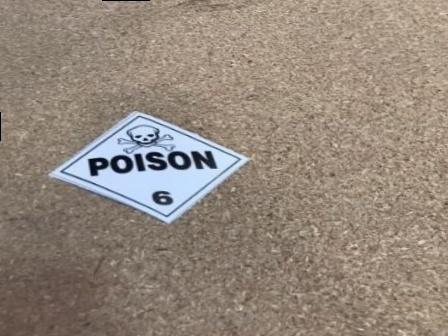poison: (44, 109, 250, 228)
